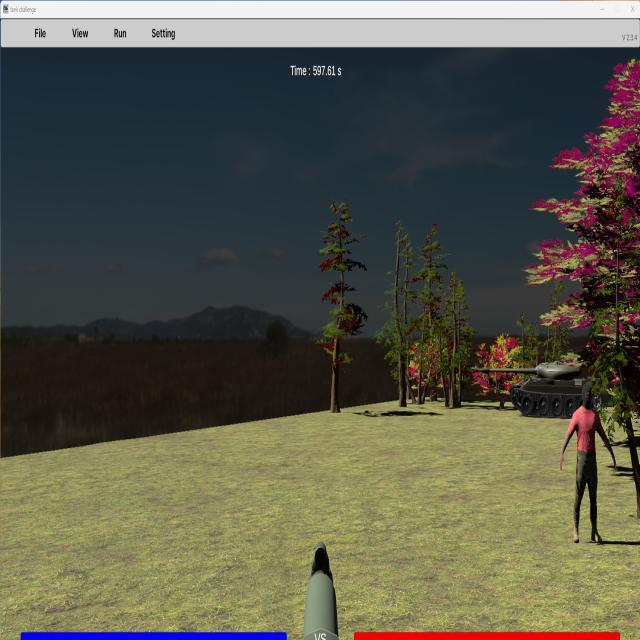Human: (560, 380, 616, 544)
Tank: (472, 359, 611, 419)
